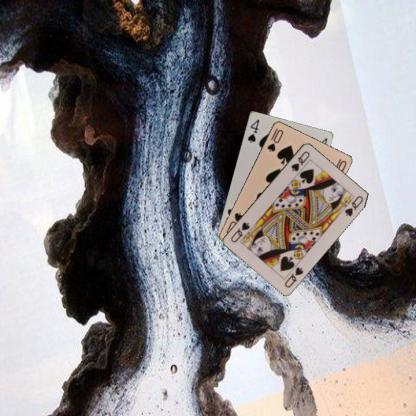10s: (265, 125, 284, 153)
4s: (245, 117, 261, 144)
Qs: (288, 148, 311, 173), (282, 264, 304, 289)
